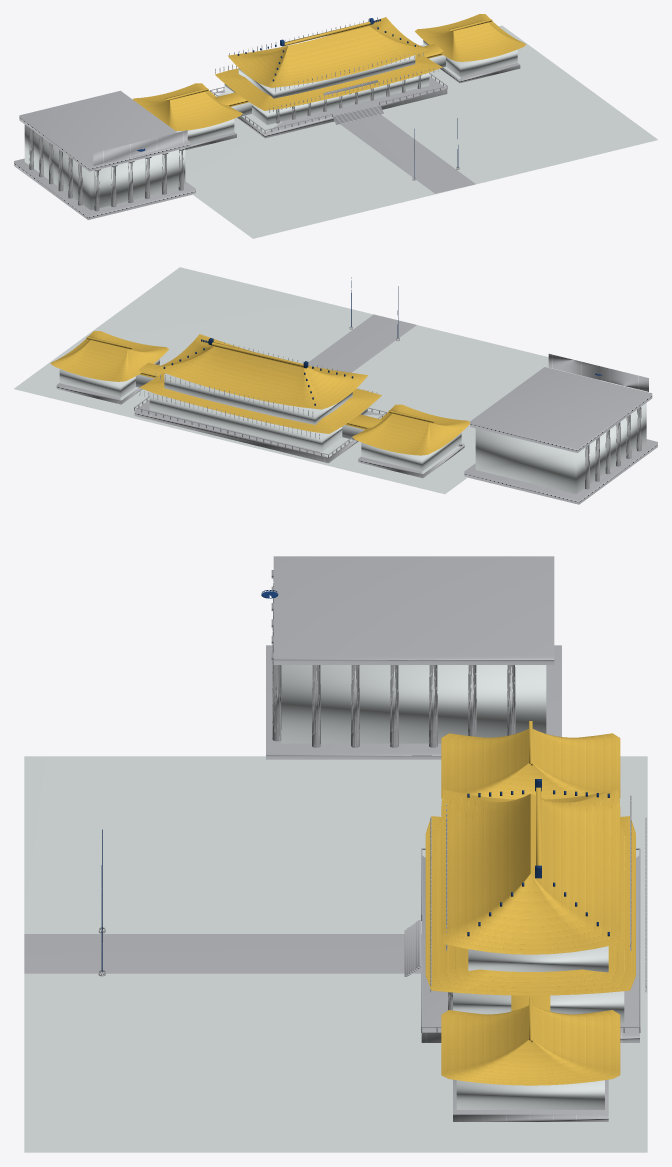
3 renders of one model, top to bottom at view 1: azimuth 30°, elevation 25°; view 2: azimuth 150°, elevation 25°; view 3: azimuth 270°, elevation 25°, orthographic. The views are drawn at different scales.
Visible parts, largest first — view 1: cheongwadae_grand_lawn_and_plaza, yeongbingwan_colonnade_and_pediment, cheongwadae_main_blue_roof, cheongwadae_wings_blue_roofs, cheongwadae_main_center_hall, main_hall_granite_plinth_and_stairs, cheongwadae_wings_sejong_chungmu; view 2: cheongwadae_grand_lawn_and_plaza, yeongbingwan_colonnade_and_pediment, cheongwadae_main_blue_roof, cheongwadae_wings_blue_roofs, cheongwadae_main_center_hall, cheongwadae_wings_sejong_chungmu, main_hall_granite_plinth_and_stairs; view 3: cheongwadae_grand_lawn_and_plaza, yeongbingwan_colonnade_and_pediment, cheongwadae_main_blue_roof, cheongwadae_wings_blue_roofs, cheongwadae_wings_sejong_chungmu, cheongwadae_main_center_hall, main_hall_granite_plinth_and_stairs.
Part boxes in pixels (box(x1,y1,x2,y2)): cheongwadae_grand_lawn_and_plaza: box(185, 25, 657, 238); yeongbingwan_colonnade_and_pediment: box(14, 90, 195, 219); cheongwadae_main_blue_roof: box(215, 17, 442, 112); cheongwadae_wings_blue_roofs: box(133, 14, 525, 130); cheongwadae_main_center_hall: box(224, 55, 429, 124); main_hall_granite_plinth_and_stairs: box(210, 73, 447, 138); cheongwadae_wings_sejong_chungmu: box(176, 40, 520, 150); cheongwadae_grand_lawn_and_plaza: box(14, 267, 600, 494); yeongbingwan_colonnade_and_pediment: box(464, 354, 657, 504); cheongwadae_main_blue_roof: box(139, 334, 381, 439); cheongwadae_wings_blue_roofs: box(50, 331, 469, 455); cheongwadae_main_center_hall: box(149, 373, 367, 451); cheongwadae_wings_sejong_chungmu: box(56, 359, 464, 478); main_hall_granite_plinth_and_stairs: box(134, 396, 386, 463); cheongwadae_grand_lawn_and_plaza: box(24, 756, 647, 1152); yeongbingwan_colonnade_and_pediment: box(261, 556, 561, 759); cheongwadae_main_blue_roof: box(425, 779, 646, 995); cheongwadae_wings_blue_roofs: box(441, 721, 620, 1085); cheongwadae_wings_sejong_chungmu: box(453, 1079, 608, 1121); cheongwadae_main_center_hall: box(448, 946, 624, 1022); main_hall_granite_plinth_and_stairs: box(404, 848, 640, 1042).
Size of the model in its own units: 151 by 18.6 by 80.
Materials: 5 (5 with a texture image).
